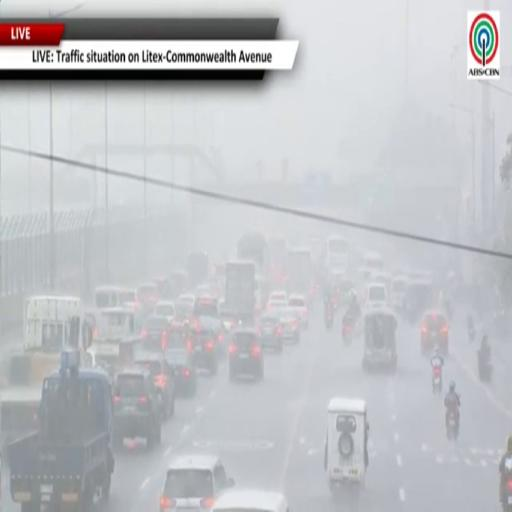car: (160, 454, 234, 511), (113, 367, 161, 447), (135, 355, 176, 418), (165, 331, 197, 397), (229, 329, 264, 380), (212, 488, 288, 511), (420, 310, 449, 356), (191, 326, 218, 375), (194, 316, 226, 356), (142, 315, 170, 350), (259, 311, 282, 353), (277, 307, 300, 343), (136, 282, 160, 312), (288, 295, 308, 329), (219, 302, 238, 332), (365, 283, 387, 308), (193, 295, 218, 316), (173, 301, 193, 326), (155, 300, 175, 322), (268, 291, 288, 305), (177, 294, 195, 307), (267, 300, 287, 310)
motorcycle: (478, 351, 492, 382), (447, 411, 458, 441), (502, 478, 511, 511), (342, 320, 354, 344), (432, 366, 442, 393), (324, 307, 334, 331), (445, 300, 453, 321), (468, 326, 476, 343)
truck: (8, 350, 114, 511), (0, 295, 92, 445), (224, 261, 255, 323), (237, 232, 268, 277), (288, 248, 312, 296), (187, 252, 209, 287)
